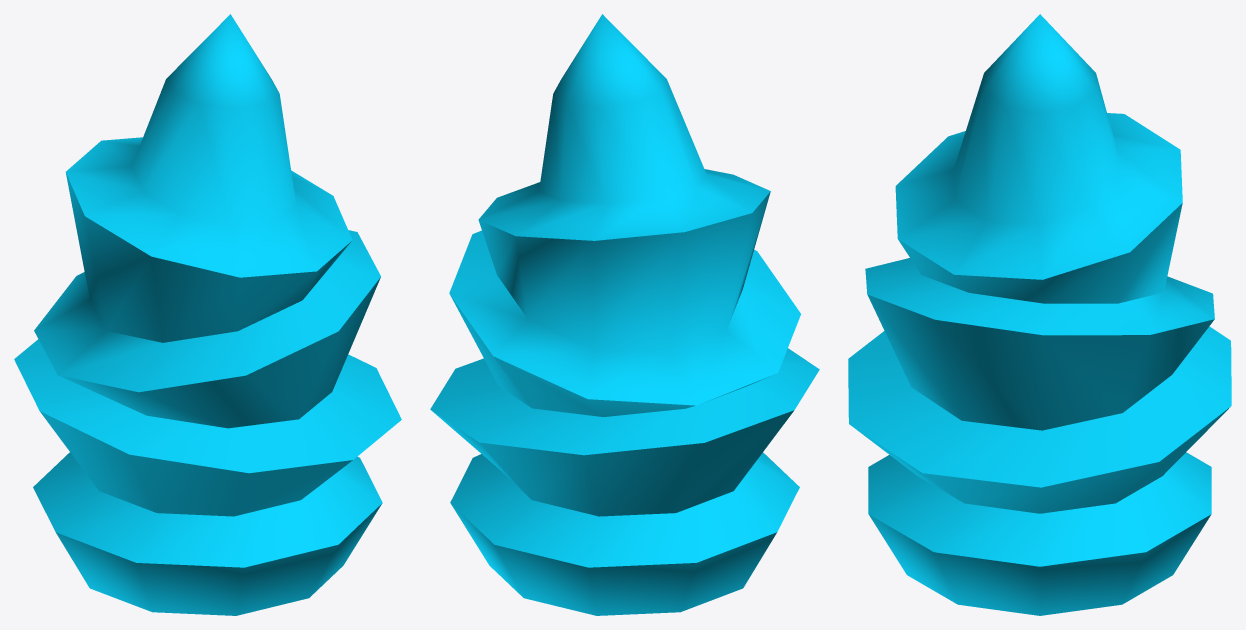
The model's file is IMBUEDFREEZE.obj.
3 views of the same model, side by side, from view 1: azimuth 30°, elevation 25°; view 2: azimuth 150°, elevation 25°; view 3: azimuth 270°, elevation 25° (orthographic). The views are drawn at different scales.
Visible parts, largest first — view 1: ImbuedFreeze; view 2: ImbuedFreeze; view 3: ImbuedFreeze.
Boxes of the visible parts, bbox=[...] form: ImbuedFreeze: bbox=[14, 14, 401, 615]; ImbuedFreeze: bbox=[430, 14, 819, 615]; ImbuedFreeze: bbox=[848, 14, 1231, 615].
Size of the model in its own units: 30.35 by 46.33 by 29.07.
